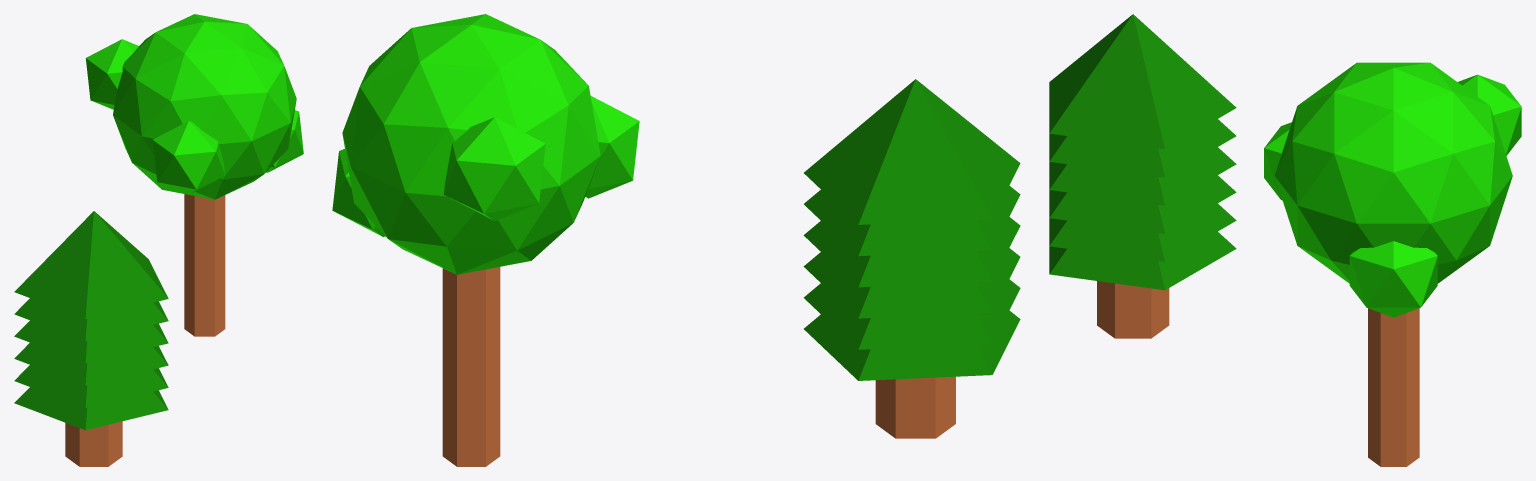
The model's file is derevya.fbx.
3 renders of one model, left to right at view 1: azimuth 30°, elevation 25°; view 2: azimuth 150°, elevation 25°; view 3: azimuth 270°, elevation 25°, orthographic. The views are drawn at different scales.
Parts seen in each view (by area): view 1: Cone.001, Icosphere, Cylinder.001, Icosphere.003, Cylinder, Icosphere.004, Icosphere.001; view 2: Cone.001, Icosphere, Cylinder.001, Icosphere.004, Cylinder, Icosphere.003, Icosphere.001; view 3: Cone.001, Icosphere, Cylinder.001, Icosphere.001, Cylinder, Icosphere.004, Icosphere.003.
Part boxes in pixels (x1,y1,x2,y2): Cone.001: [14, 211, 168, 430]; Icosphere: [113, 14, 296, 199]; Cylinder.001: [184, 194, 225, 336]; Icosphere.003: [152, 121, 225, 194]; Cylinder: [65, 421, 122, 466]; Icosphere.004: [85, 39, 138, 109]; Icosphere.001: [266, 110, 303, 172]; Cone.001: [803, 79, 1020, 380]; Icosphere: [342, 14, 600, 274]; Cylinder.001: [442, 267, 500, 466]; Icosphere.004: [443, 117, 545, 221]; Cylinder: [875, 376, 955, 438]; Icosphere.003: [585, 96, 639, 198]; Icosphere.001: [332, 149, 385, 236]; Cone.001: [1049, 14, 1236, 290]; Icosphere: [1274, 62, 1512, 283]; Cylinder.001: [1368, 308, 1419, 466]; Icosphere.001: [1349, 241, 1437, 317]; Cylinder: [1097, 281, 1169, 338]; Icosphere.004: [1458, 74, 1521, 155]; Icosphere.003: [1264, 122, 1291, 200].
Bounding box in the file's own units: 1060 × 830 × 912.
